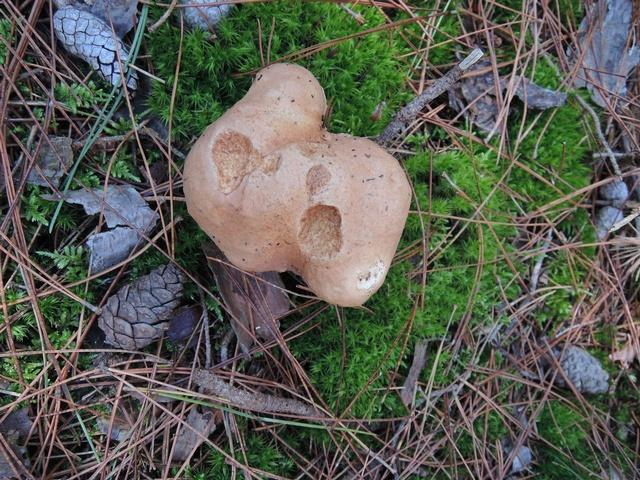Non-edible Mushroom: (181, 60, 413, 309)
